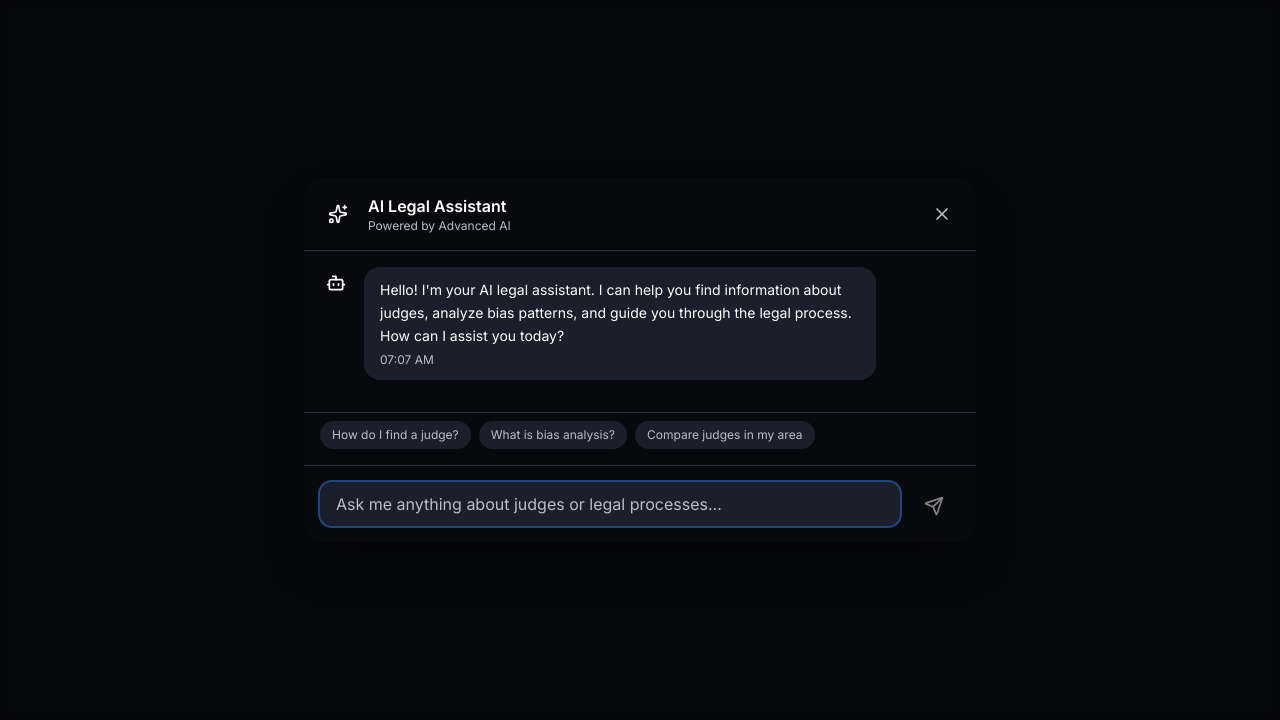
Test: Chat Accessibility - WCAG 2.2 AA › AIChatModal › suggested questions are clickable
Click the button "How do I find a judge?" at (395, 435), box 320,421 -> 471,449
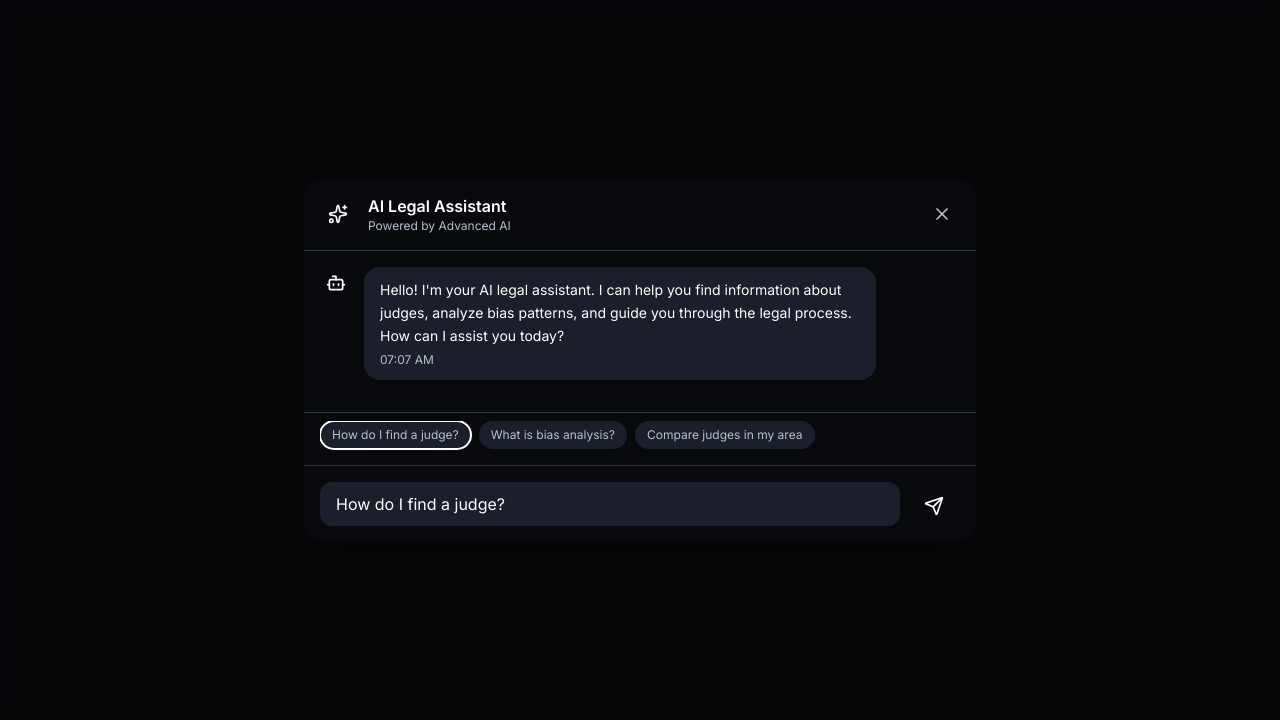
Result: the text box with placeholder "Ask me anything about judges or legal processes..." holds "How do I find a judge?" at 320,482 -> 900,526
